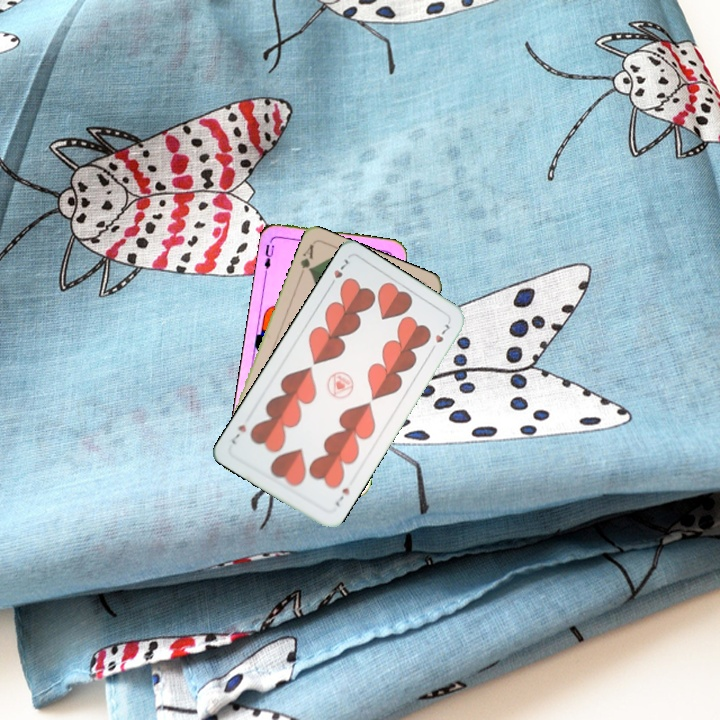EU: (260, 240, 277, 275)
GA: (296, 240, 316, 279)
H7: (325, 255, 351, 290), (331, 483, 352, 509)
